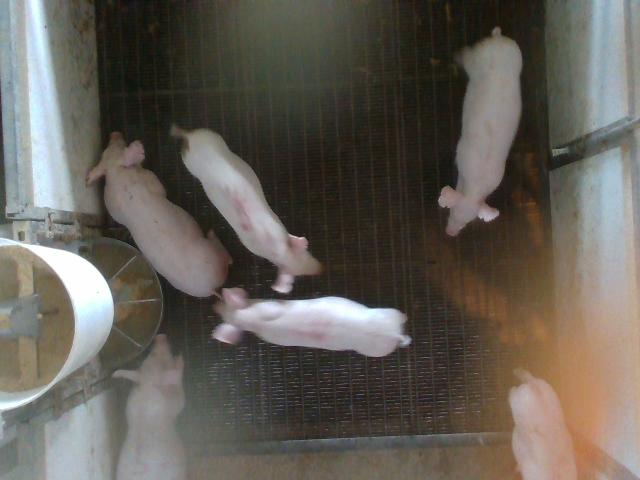pig-4: (212, 288, 411, 356)
pig-5: (170, 125, 321, 292)
